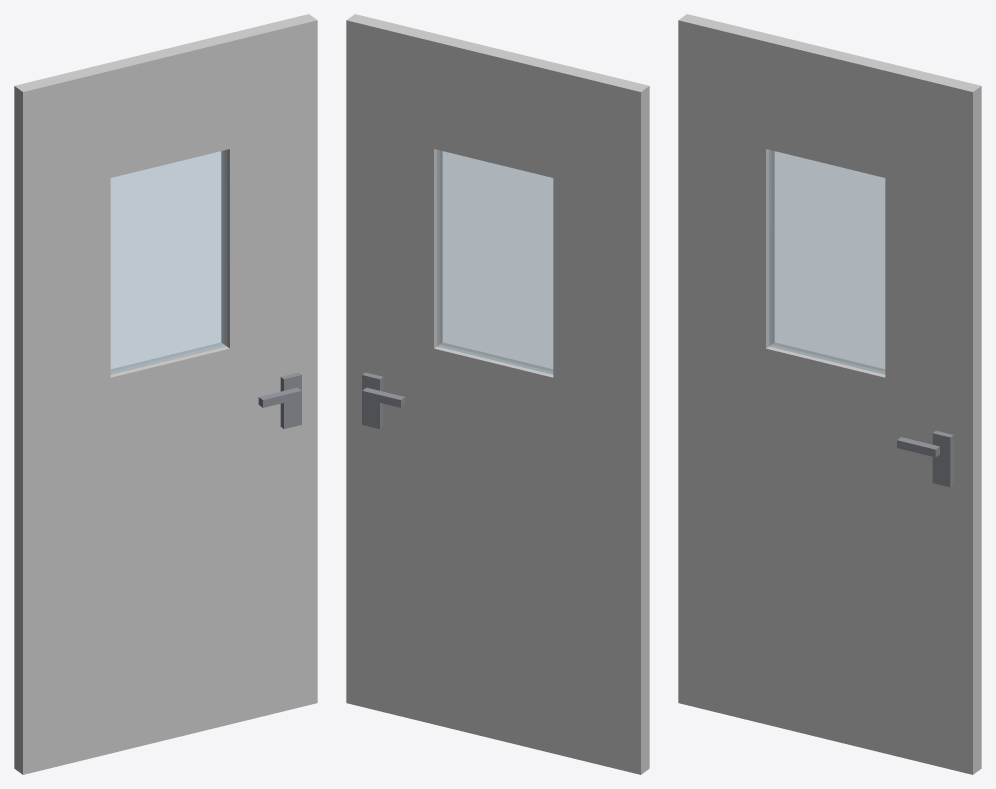
The model's file is SM_Door_office_100x220.fbx.
3 renders of one model, left to right at view 1: azimuth 30°, elevation 25°; view 2: azimuth 150°, elevation 25°; view 3: azimuth 330°, elevation 25°, orthographic.
Parts seen in each view (by area): view 1: SM_Door_office_100x220; view 2: SM_Door_office_100x220; view 3: SM_Door_office_100x220.
Boxes of the visible parts, <box> form: SM_Door_office_100x220: <box>14,14,317,774</box>; SM_Door_office_100x220: <box>346,14,649,774</box>; SM_Door_office_100x220: <box>678,14,981,774</box>.
Bounding box in the file's own units: 0.988 × 2.19 × 0.175.
